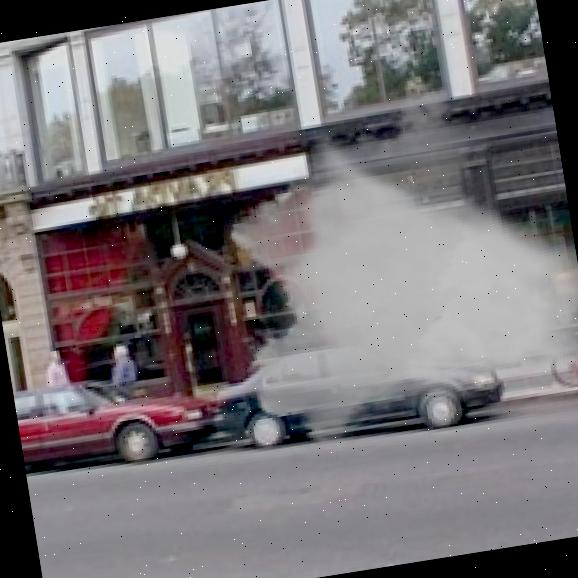smoke: (322, 108, 517, 356)
